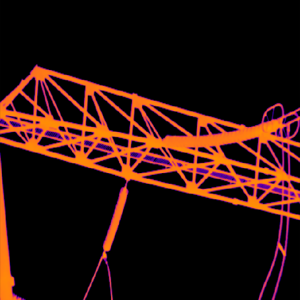insulator: (160, 118, 281, 149), (102, 188, 127, 251)
